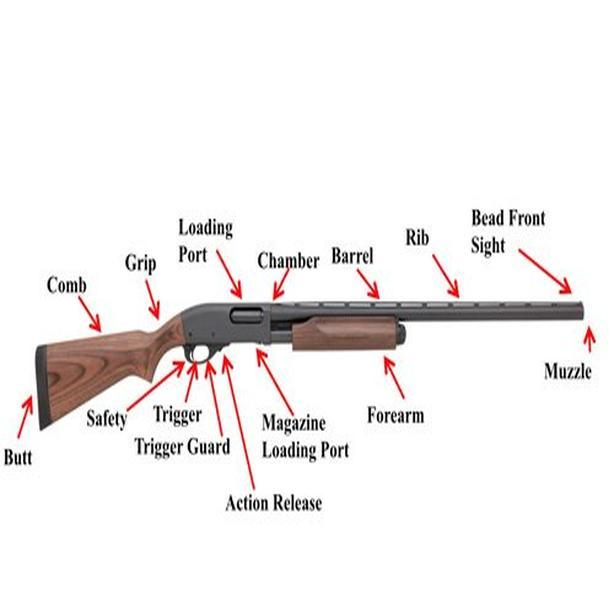Firearm: (24, 229, 603, 439)
